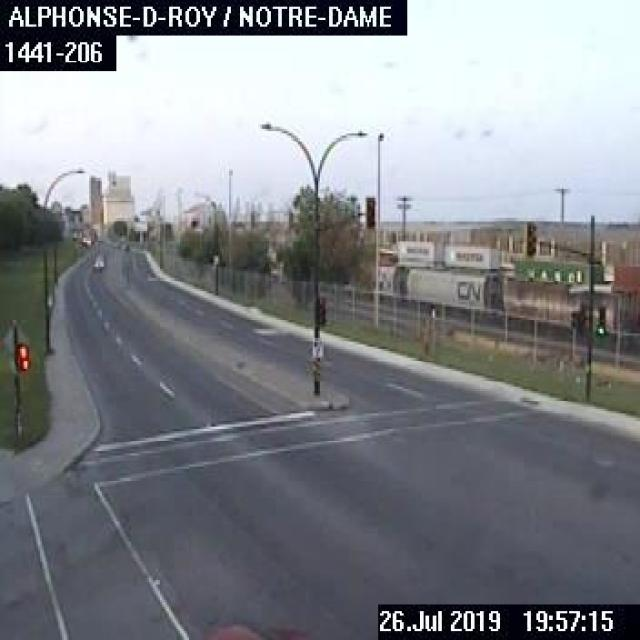vehicle: (89, 253, 106, 269)
